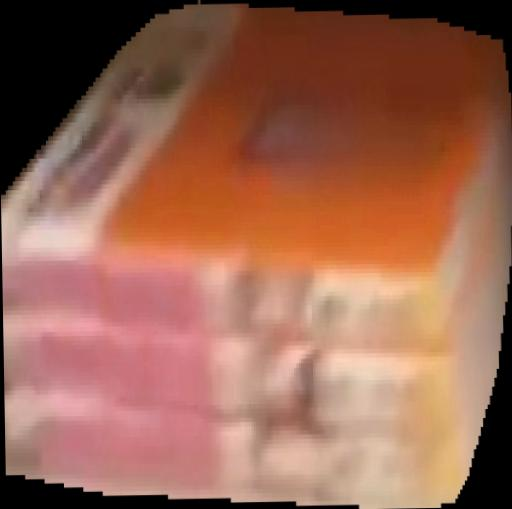flat: (1, 1, 512, 509)
